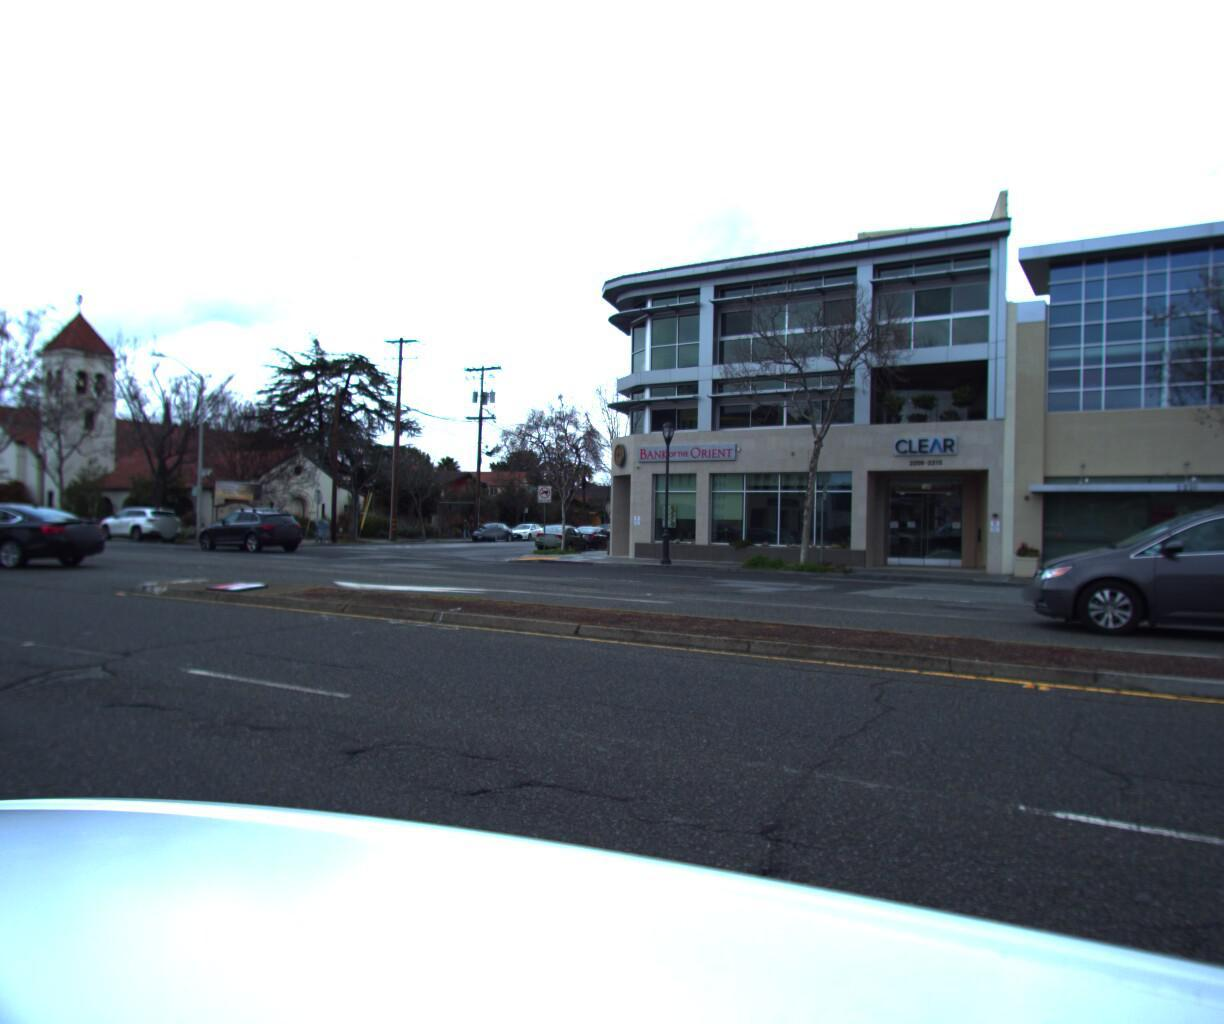car: (1018, 483, 1224, 676), (0, 501, 118, 573), (194, 502, 313, 554), (91, 506, 191, 545), (528, 526, 594, 556), (560, 527, 616, 553), (467, 524, 513, 545), (505, 524, 547, 545)
